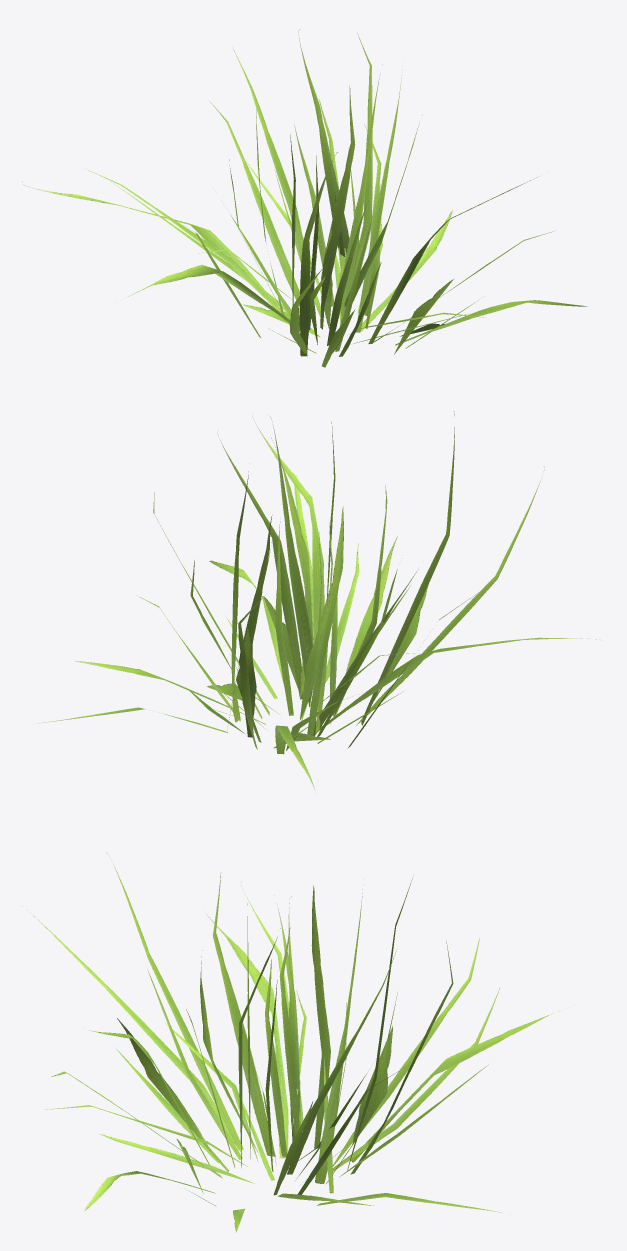
Rendered from grass_3.fbx.
3 renders of one model, top to bottom at view 1: azimuth 30°, elevation 25°; view 2: azimuth 150°, elevation 25°; view 3: azimuth 270°, elevation 25°, orthographic. The views are drawn at different scales.
Parts seen in each view (by area): view 1: Grass1_Grass_Mat_0; view 2: Grass1_Grass_Mat_0; view 3: Grass1_Grass_Mat_0.
Part boxes in pixels (x1,y1,x2,y2): Grass1_Grass_Mat_0: (22,29,587,367); Grass1_Grass_Mat_0: (37,411,601,793); Grass1_Grass_Mat_0: (27,852,553,1232).
Bounding box in the file's own units: 71.18 × 46.31 × 73.73.
Materials: 1 (1 with a texture image).
